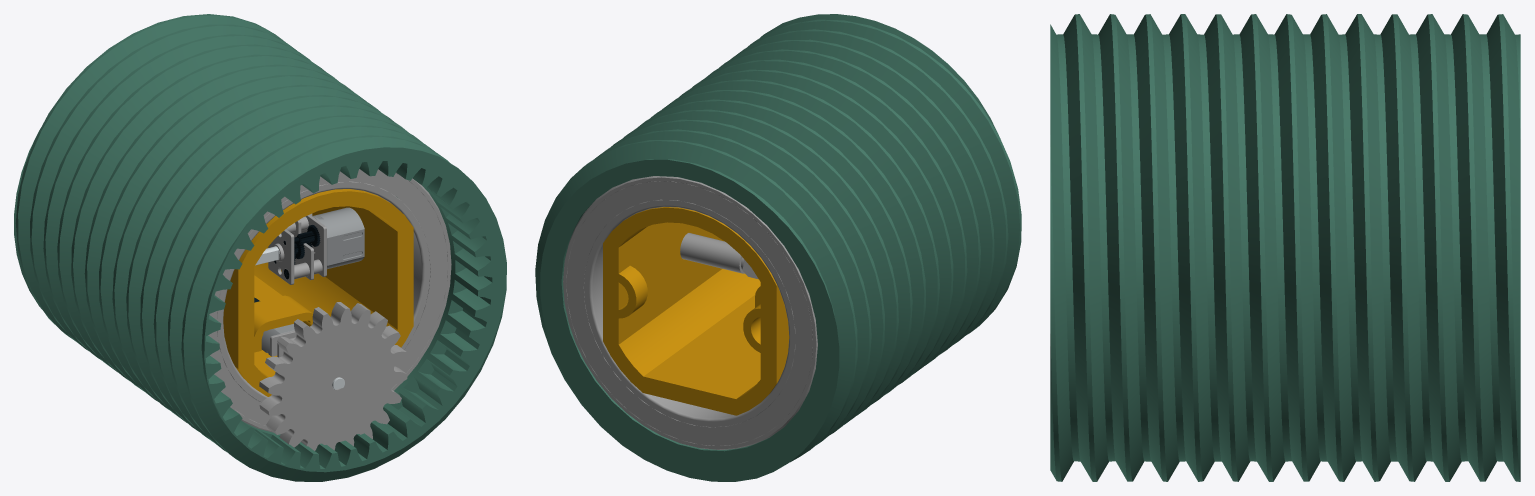
Rendered from TESTER_REV_B.obj.
The picture shows the model from 3 angles, left to right: view 1: azimuth 30°, elevation 25°; view 2: azimuth 150°, elevation 25°; view 3: azimuth 270°, elevation 25°; orthographic projection. The views are drawn at different scales.
Visible parts, largest first — view 1: TEST_IT, D-TUBE, Body1:3, Body3, Body1, Body26:1, Body2, Body29:1, Body32:1; view 2: TEST_IT, D-TUBE, Body3:1, Body1:1, Body2:1, Body1:4; view 3: TEST_IT.
Part boxes in pixels (<box>): TEST_IT: <box>14,14,506,481</box>; D-TUBE: <box>223,189,413,396</box>; Body1:3: <box>259,302,407,450</box>; Body3: <box>208,169,447,425</box>; Body1: <box>217,181,430,402</box>; Body26:1: <box>312,207,364,269</box>; Body2: <box>230,172,451,432</box>; Body29:1: <box>268,229,294,284</box>; Body32:1: <box>301,214,326,276</box>; TEST_IT: <box>535,14,1021,481</box>; D-TUBE: <box>603,207,789,415</box>; Body3:1: <box>566,181,812,445</box>; Body1:1: <box>584,199,795,427</box>; Body2:1: <box>563,176,817,449</box>; Body1:4: <box>680,233,758,279</box>; TEST_IT: <box>1050,14,1520,481</box>.
Size of the model in its own units: 79.61 by 79.62 by 80.
